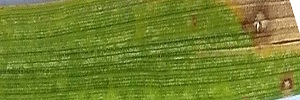RiceBlast: (222, 1, 300, 57), (277, 71, 298, 95)
